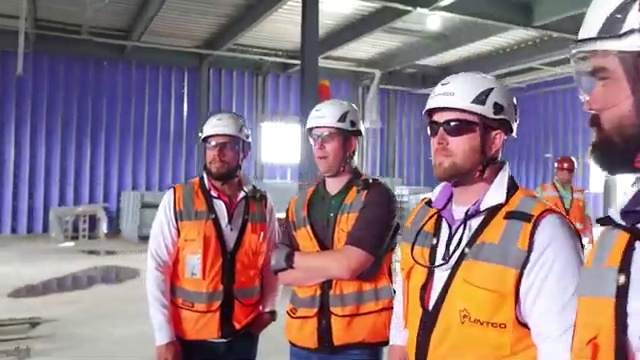helmet: (421, 68, 516, 138), (573, 1, 637, 54), (305, 98, 370, 143), (199, 107, 257, 149), (550, 150, 579, 176)
jacket: (401, 198, 565, 360), (282, 180, 400, 352), (164, 179, 270, 343), (578, 230, 640, 360), (534, 181, 598, 235)
